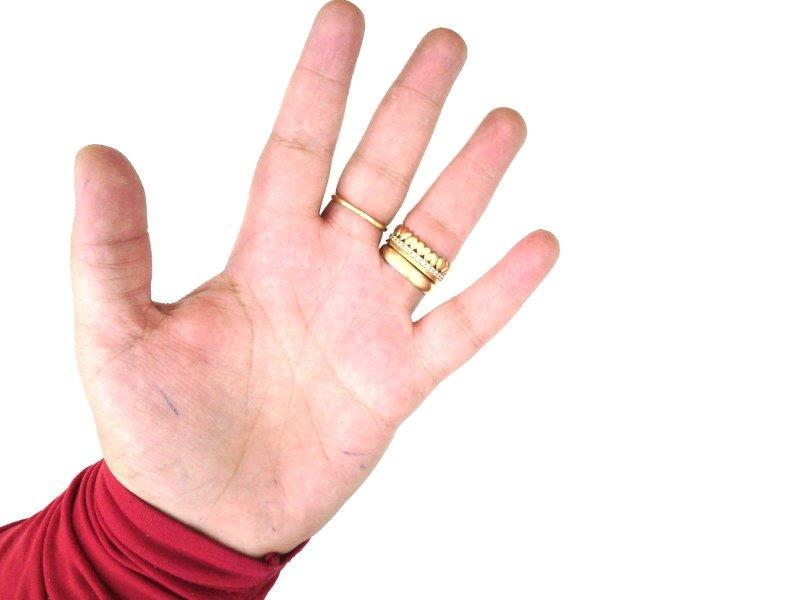hand: (73, 1, 560, 518)
